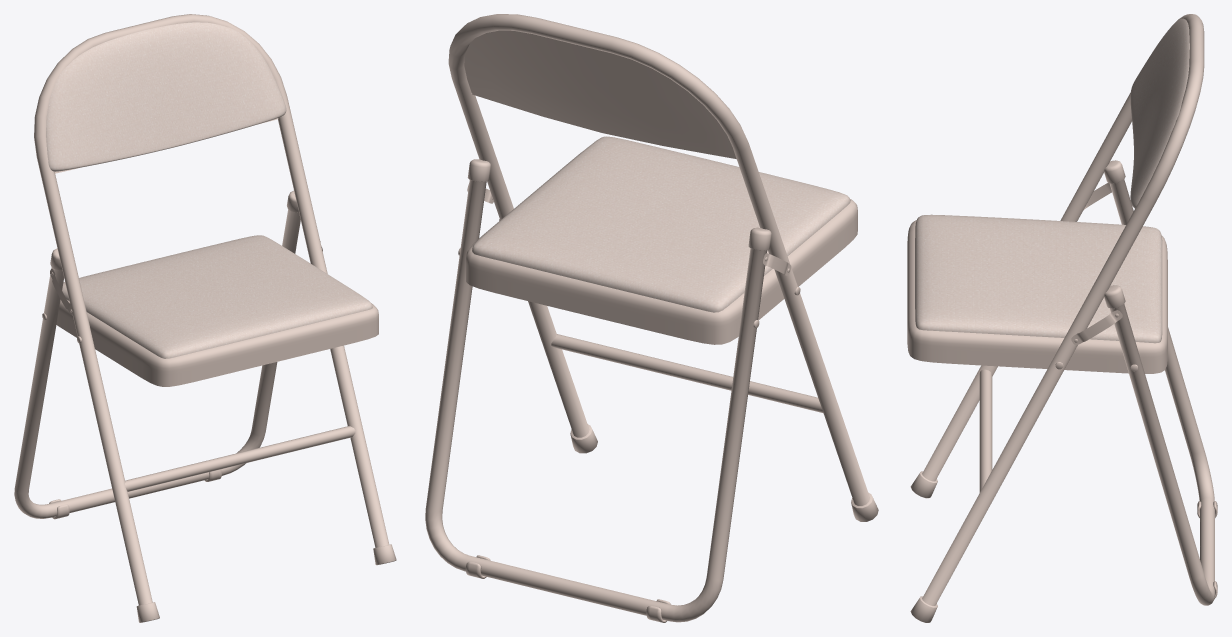
Rendered from chair_04_01.001.fbx.
3 renders of one model, left to right at view 1: azimuth 30°, elevation 25°; view 2: azimuth 150°, elevation 25°; view 3: azimuth 270°, elevation 25°, orthographic. The views are drawn at different scales.
Parts seen in each view (by area): view 1: chair_04_01.001; view 2: chair_04_01.001; view 3: chair_04_01.001.
Part boxes in pixels (x1,y1,x2,y2): chair_04_01.001: (14,14,396,622); chair_04_01.001: (425,14,878,622); chair_04_01.001: (907,14,1217,622).
Bounding box in the file's own units: 45.16 × 80.7 × 43.99.
Materials: 1 (1 with a texture image).
